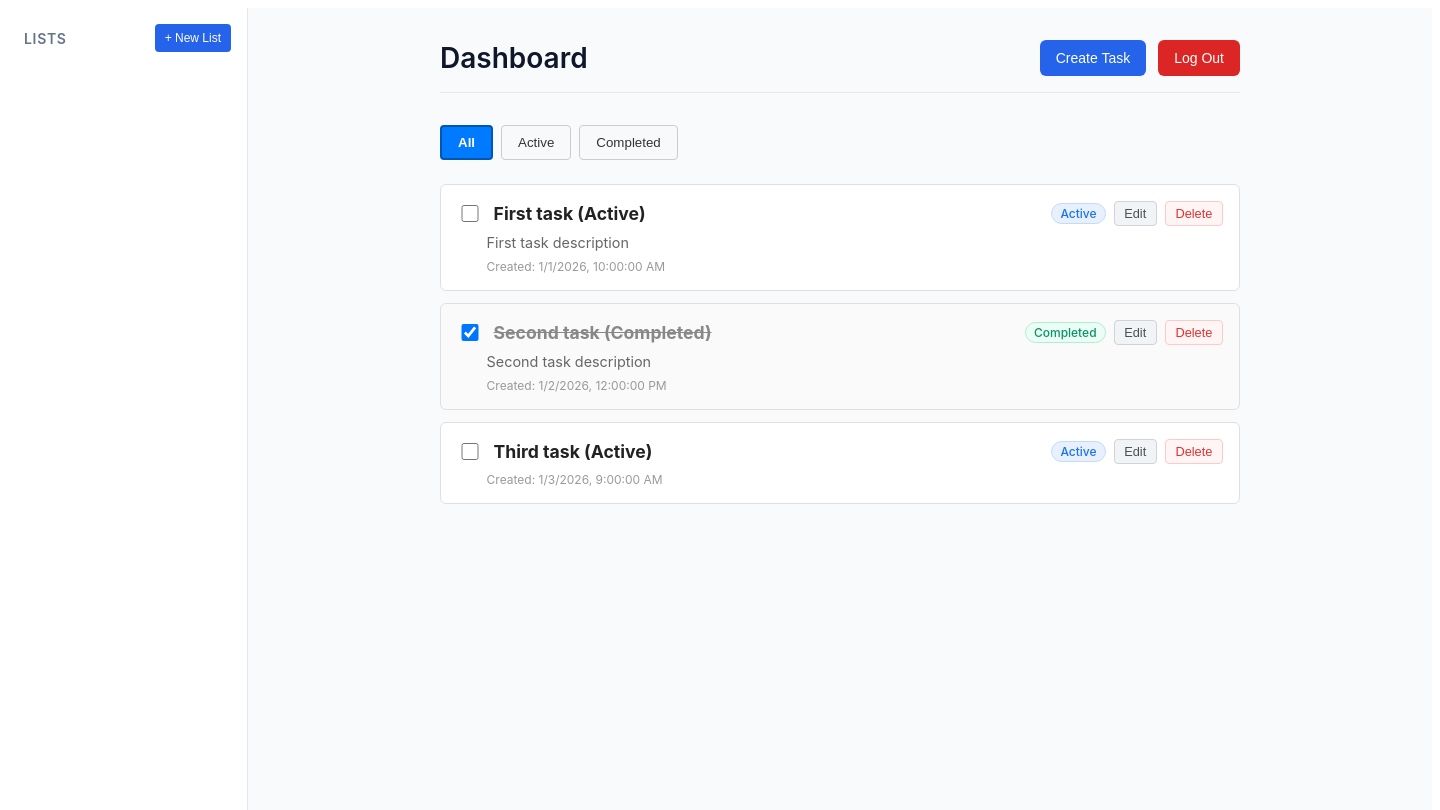
it: Task Dashboard, Chronological Listing, and Status Filtering › filters active tasks in-memory when Active tab is selected
Check: the heading "First task (Active)" is shown, box [494,203,646,224]
Check: the heading "Second task (Completed)" is shown, box [494,322,712,343]
// Click "Active" tab
Click the button "Active": {"x": 536, "y": 142} [501,125,571,160]
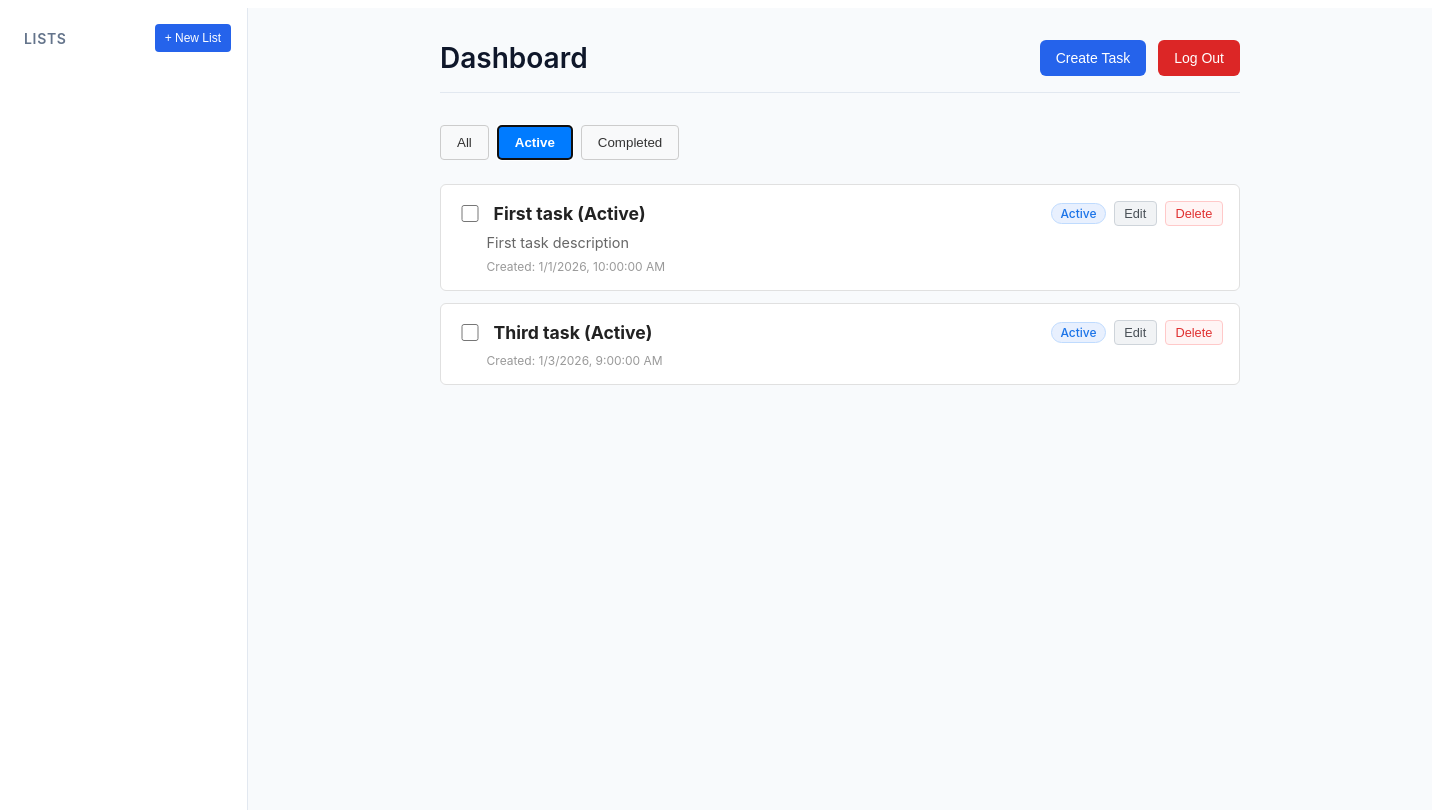
Check: the heading "First task (Active)" is shown, box [494,203,646,224]
Check: the heading "Second task (Completed)" is gone
